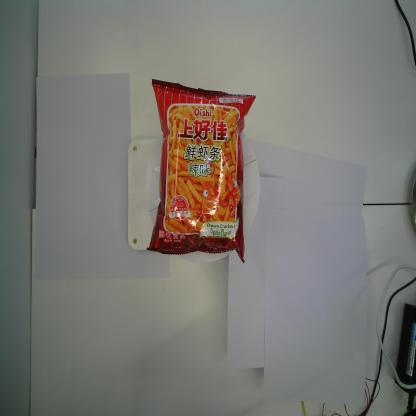Puffed Food: (146, 77, 256, 264)
